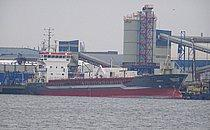Ship: (30, 27, 192, 102)
